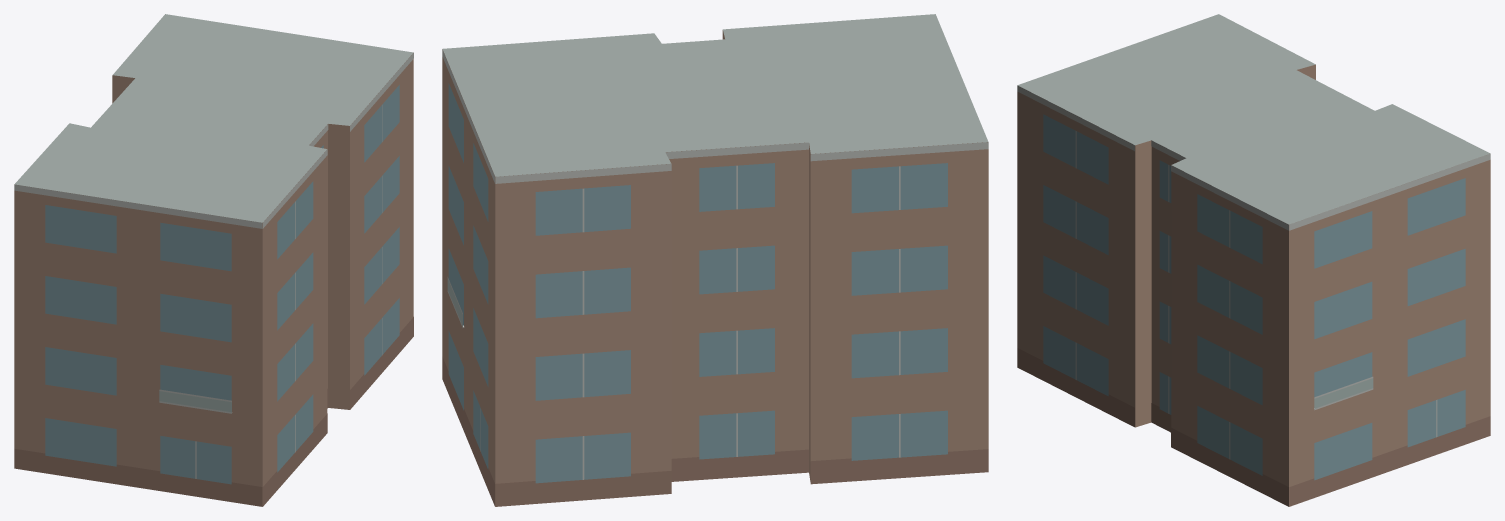
File: survey-upis-32935992.glb
3 renders of one model, left to right at view 1: azimuth 30°, elevation 25°; view 2: azimuth 150°, elevation 25°; view 3: azimuth 270°, elevation 25°, orthographic. The views are drawn at different scales.
Visible parts, largest first — view 1: survey-upis-32935992.tmp; view 2: survey-upis-32935992.tmp; view 3: survey-upis-32935992.tmp.
Boxes of the visible parts, x1,y1,x2,y2 form: survey-upis-32935992.tmp: [14, 14, 413, 506]; survey-upis-32935992.tmp: [442, 14, 988, 506]; survey-upis-32935992.tmp: [1017, 14, 1490, 506].
Bounding box in the file's own units: 17.96 × 11.21 × 17.05.
